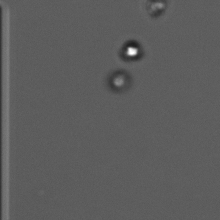Dead Cell: (145, 1, 171, 21)
Living Cell: (114, 37, 147, 61), (107, 68, 136, 91)
